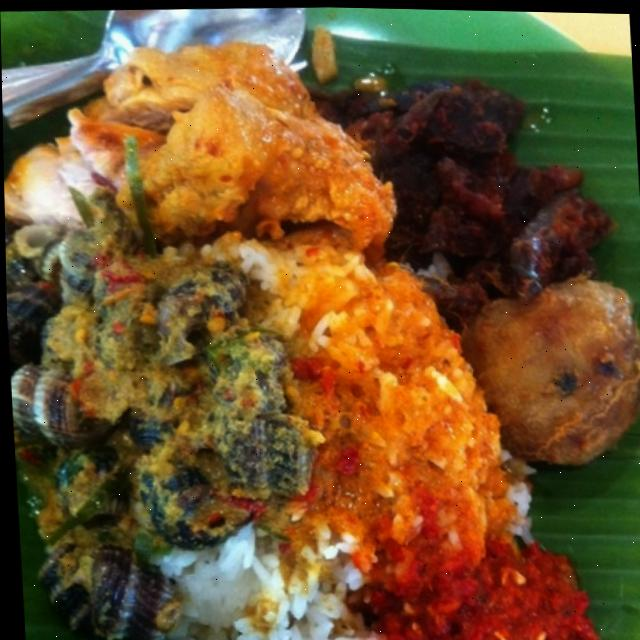米饭主食: (0, 21, 631, 640)
